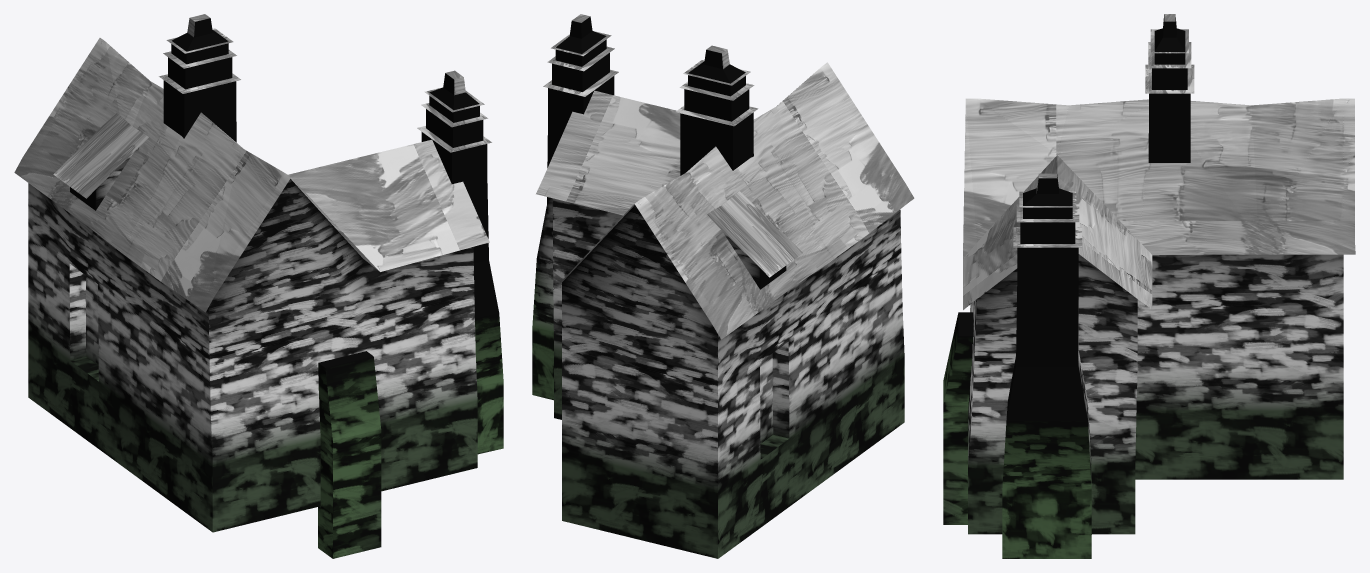
The model's file is Large_Farmhouse01.glb.
3 views of the same model, side by side, from view 1: azimuth 30°, elevation 25°; view 2: azimuth 150°, elevation 25°; view 3: azimuth 270°, elevation 25° (orthographic).
Parts seen in each view (by area): view 1: Building01Walls_col, Building01Roof_col, Chimney01_col, Bulwarks-col, ChimneyTrim-col; view 2: Building01Walls_col, Building01Roof_col, Chimney01_col, ChimneyTrim-col; view 3: Building01Walls_col, Building01Roof_col, Chimney01_col, Bulwarks-col, ChimneyTrim-col.
Boxes of the visible parts, bbox=[...] form: Building01Walls_col: bbox=[28, 152, 477, 532]; Building01Roof_col: bbox=[14, 38, 489, 312]; Chimney01_col: bbox=[163, 18, 503, 454]; Bulwarks-col: bbox=[318, 351, 381, 558]; ChimneyTrim-col: bbox=[159, 14, 491, 152]; Building01Walls_col: bbox=[553, 198, 904, 558]; Building01Roof_col: bbox=[536, 62, 914, 339]; Chimney01_col: bbox=[532, 16, 753, 400]; ChimneyTrim-col: bbox=[543, 14, 758, 126]; Building01Walls_col: bbox=[968, 254, 1343, 534]; Building01Roof_col: bbox=[963, 98, 1355, 309]; Chimney01_col: bbox=[1002, 14, 1190, 558]; Bulwarks-col: bbox=[943, 312, 973, 524]; ChimneyTrim-col: bbox=[1013, 14, 1194, 247].
Bounding box in the file's own units: 9.95 × 13.79 × 10.91.
2 materials, 2 textured.
